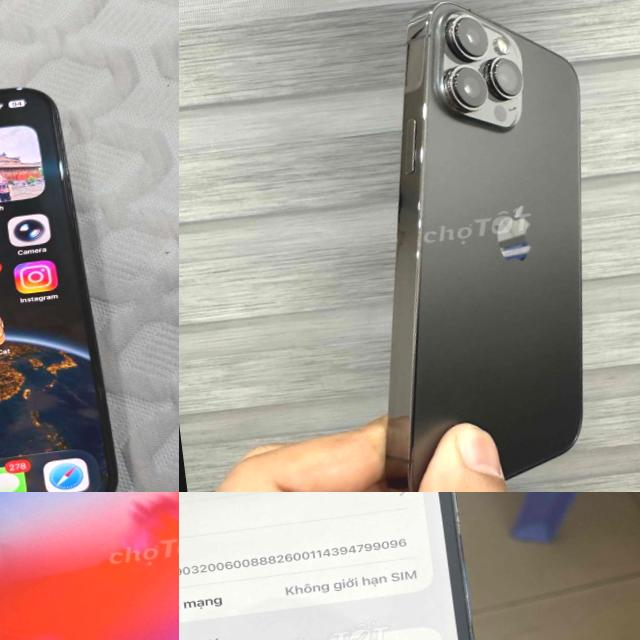scratch: (56, 160, 66, 180), (14, 85, 24, 92)
